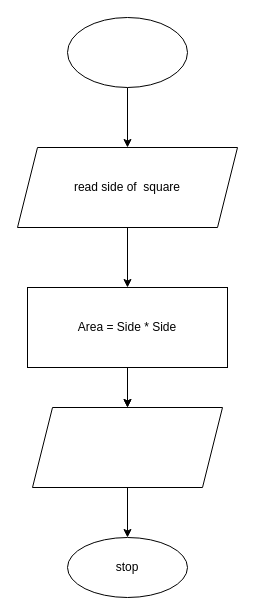
Image size: 255x615. Some labels were removed from this diagram. The shapes that lost their labels are listed below. From the top down, each one's box as (x1, y1, x2, y2) in pixels, then its label:
(66, 16, 188, 88): start
(32, 406, 222, 488): print Area
